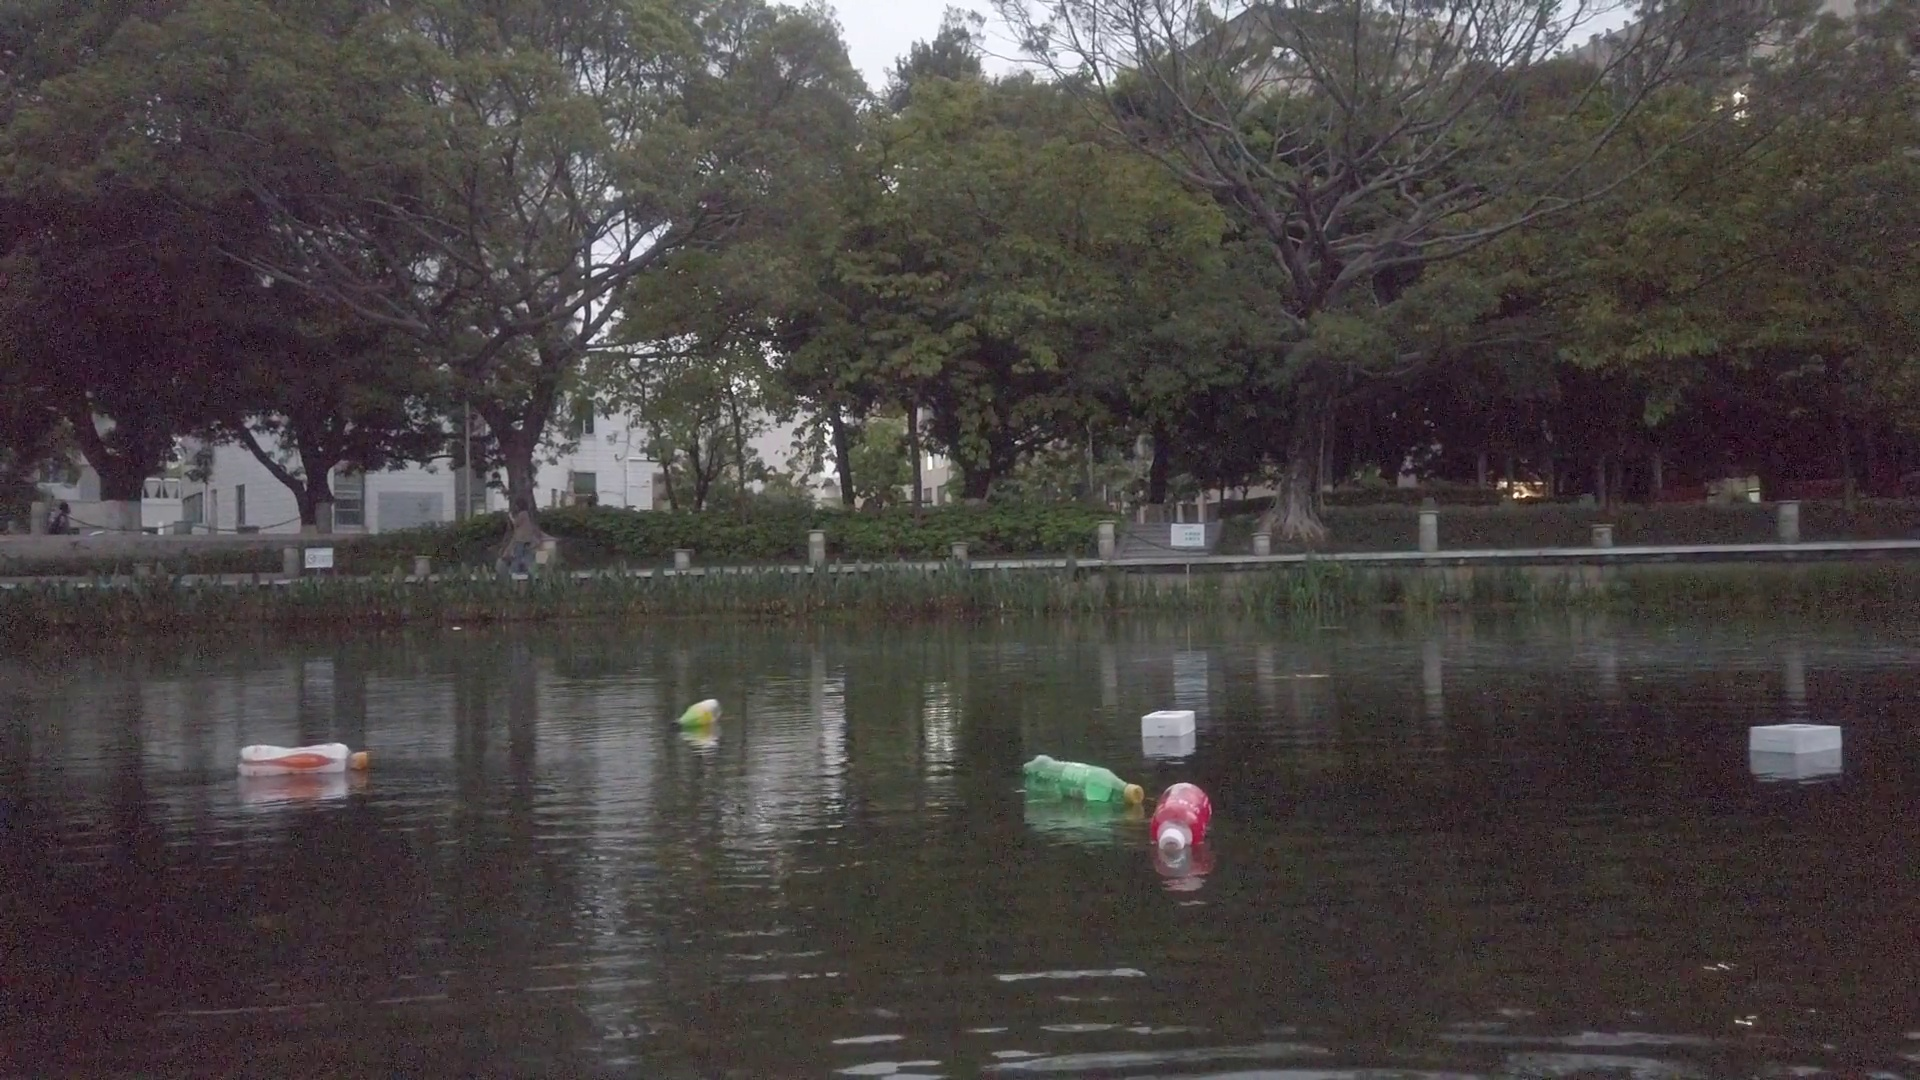bottle: (1018, 752, 1145, 812), (237, 741, 369, 778), (1154, 785, 1212, 862), (670, 698, 723, 729)
carton: (1749, 720, 1845, 753), (1142, 708, 1197, 736)
